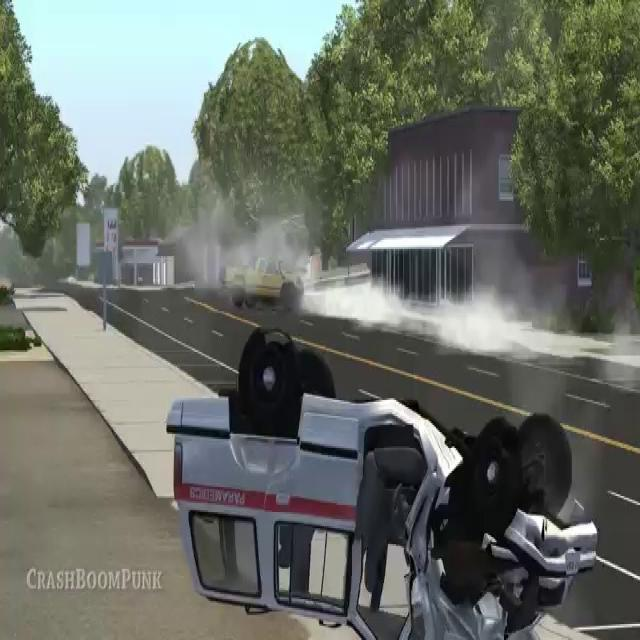accident: (161, 325, 604, 640)
